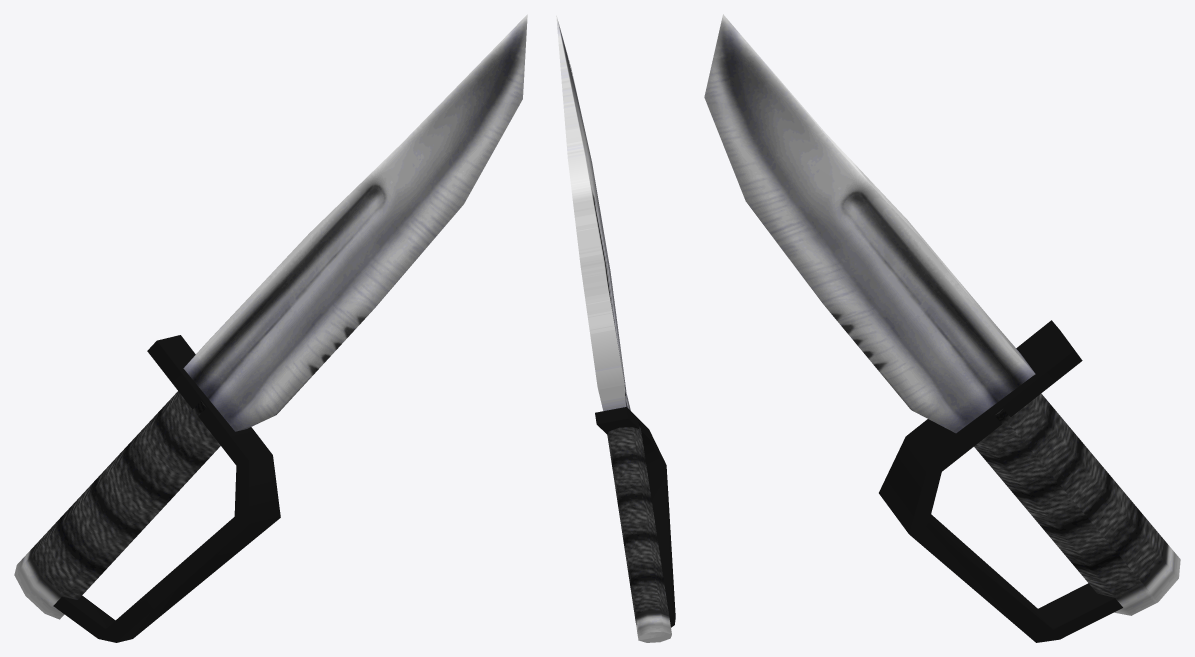
The model's file is p_knife.glb.
3 views of the same model, side by side, from view 1: azimuth 30°, elevation 25°; view 2: azimuth 150°, elevation 25°; view 3: azimuth 270°, elevation 25° (orthographic). The views are drawn at different scales.
Parts seen in each view (by area): view 1: p_knife; view 2: p_knife; view 3: p_knife.
Part boxes in pixels (x1,y1,x2,y2): p_knife: (14,14,527,642); p_knife: (556,15,675,642); p_knife: (704,14,1180,642).
Bounding box in the file's own units: 6.05 × 11.57 × 6.37.
2 materials, 2 textured.
